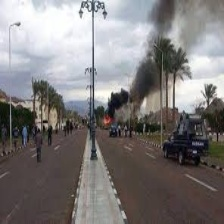smoke: (105, 3, 209, 119)
